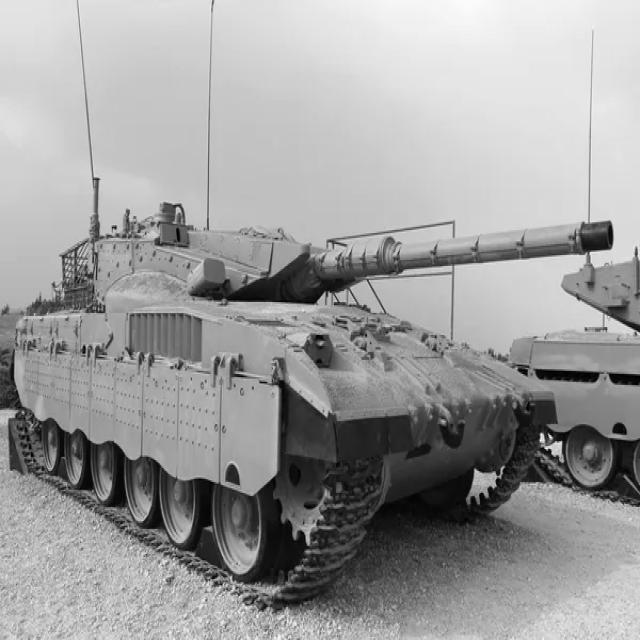Tank: (11, 174, 612, 611), (509, 256, 640, 507)
